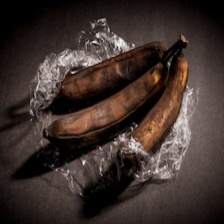banana: (0, 10, 194, 172)
